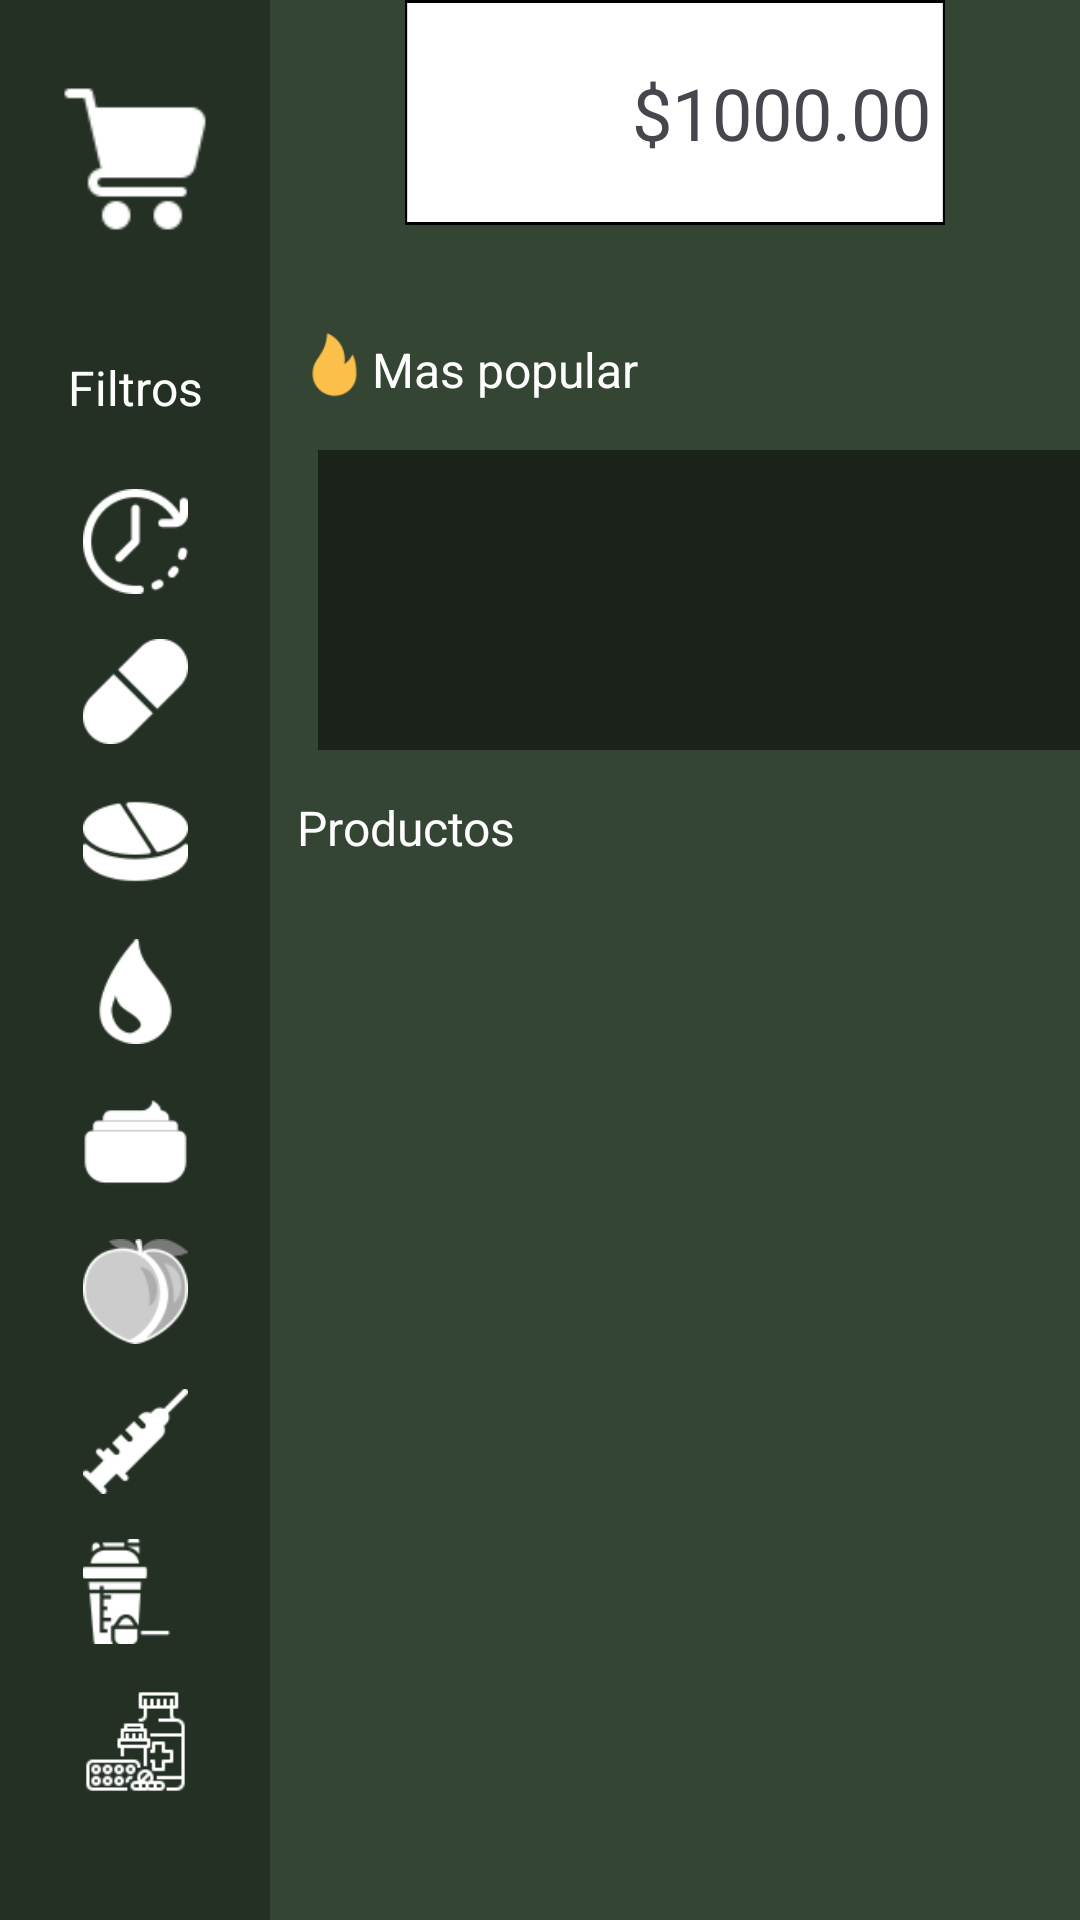

Point at icon controls on the screen. Image size 1080x1920, points as (x,y).
capsula: (135,691)
carrocompras: (135,159)
durazno: (135,1291)
farmaco: (135,1741)
fuego: (334,365)
gotas: (135,991)
inyeccion: (135,1441)
pildora: (135,841)
pomada: (135,1141)
proteinas: (126,1591)
reloj: (135,541)
